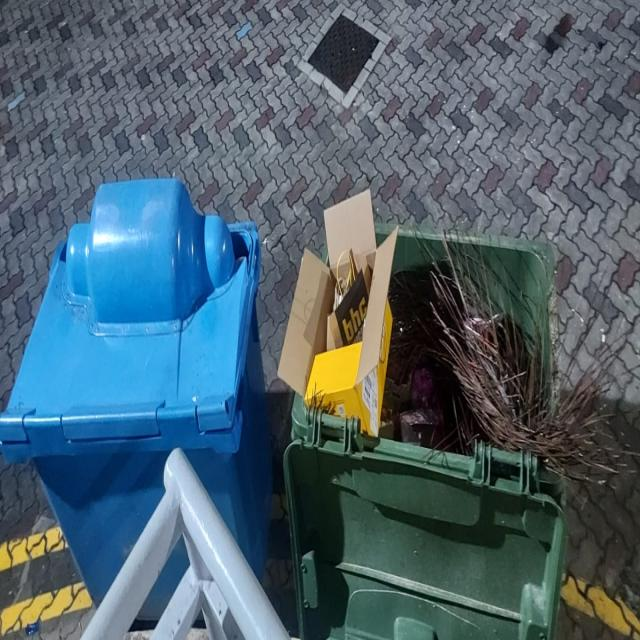bin_empty: (2, 173, 268, 630)
bin_full: (284, 215, 572, 639)
bulk_waste: (426, 240, 554, 486), (276, 243, 334, 399), (322, 187, 377, 281)
